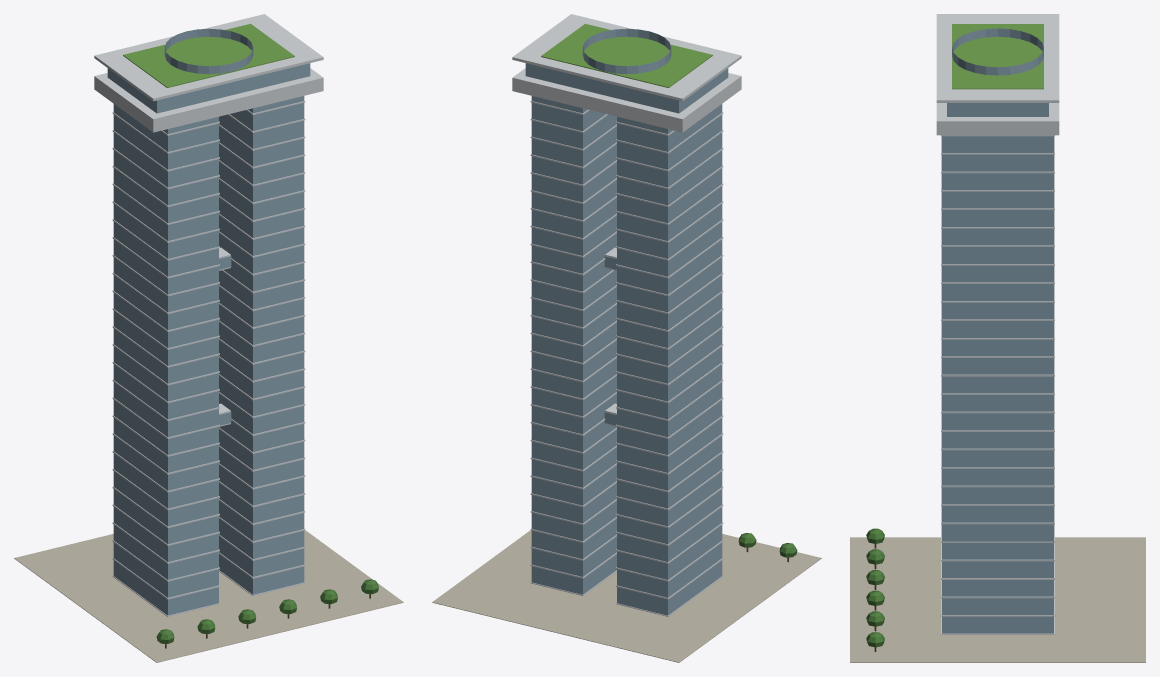
File: sky_garden.glb
3 views of the same model, side by side, from view 1: azimuth 30°, elevation 25°; view 2: azimuth 150°, elevation 25°; view 3: azimuth 270°, elevation 25° (orthographic). The views are drawn at different scales.
Visible parts, largest first — view 1: SkyGarden_static; view 2: SkyGarden_static; view 3: SkyGarden_static.
Part boxes in pixels (x1=…): SkyGarden_static: x1=14, y1=14, x2=403, y2=662; SkyGarden_static: x1=432, y1=14, x2=821, y2=662; SkyGarden_static: x1=850, y1=14, x2=1145, y2=662.
Size of the model in its own units: 58 by 120 by 58.
